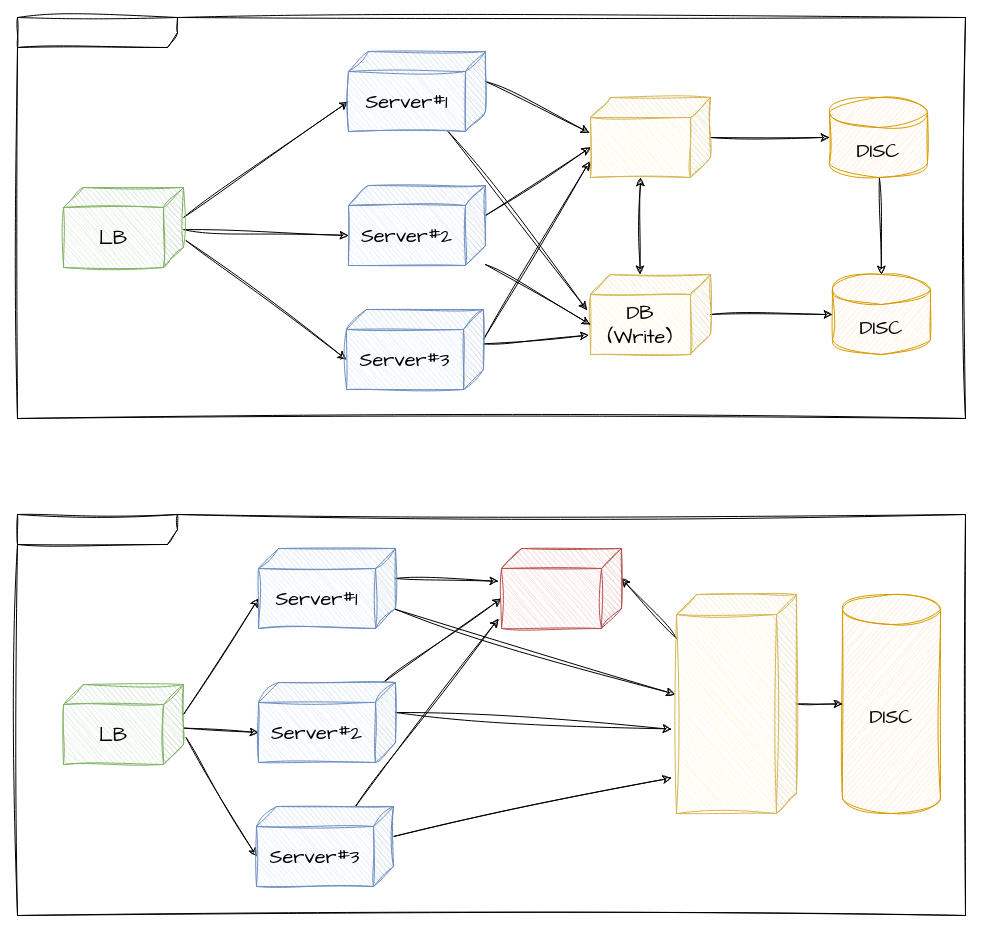
The diagram is 983 pixels wide and 933 high, and some of its shapes have lost their labels. Each missing label, with the box of its shape:
Cache: (500, 548, 622, 628)
DB: (676, 594, 796, 814)
DB (Read): (590, 96, 710, 178)
DD-01. DA-01.: (16, 16, 966, 418)
DD-01. DA-02.: (16, 514, 966, 916)
